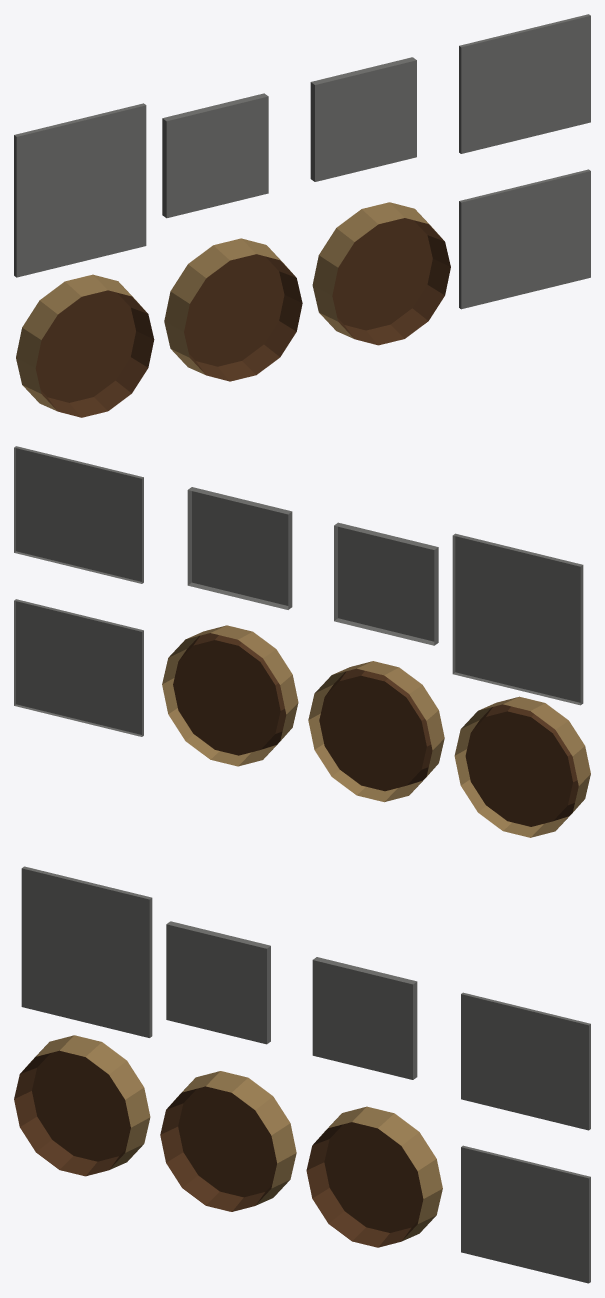
Rendered from construction_0.glb.
3 views of the same model, one above another, from view 1: azimuth 30°, elevation 25°; view 2: azimuth 150°, elevation 25°; view 3: azimuth 330°, elevation 25° (orthographic).
Visible parts, largest first — view 1: t01_g9, t10_g7, t20_g7, t00_g7, t30_g10, t31_g10, t11_g8, t21_g8; view 2: t01_g9, t10_g7, t00_g7, t20_g7, t30_g10, t31_g10, t21_g8, t11_g8; view 3: t01_g9, t10_g7, t20_g7, t00_g7, t30_g10, t31_g10, t21_g8, t11_g8.
Part boxes in pixels (<box>): t01_g9: <box>14,103,146,277</box>; t10_g7: <box>164,238,302,381</box>; t20_g7: <box>312,202,450,345</box>; t00_g7: <box>16,274,154,417</box>; t30_g10: <box>459,169,590,309</box>; t31_g10: <box>459,14,590,153</box>; t11_g8: <box>162,93,268,218</box>; t21_g8: <box>310,57,416,181</box>; t01_g9: <box>452,533,583,705</box>; t10_g7: <box>308,661,444,802</box>; t00_g7: <box>454,696,590,837</box>; t20_g7: <box>162,625,298,766</box>; t30_g10: <box>14,599,143,736</box>; t31_g10: <box>14,446,143,583</box>; t21_g8: <box>187,487,292,609</box>; t11_g8: <box>334,522,438,645</box>; t01_g9: <box>21,866,152,1037</box>; t10_g7: <box>160,1071,296,1211</box>; t20_g7: <box>306,1106,442,1247</box>; t00_g7: <box>14,1035,150,1176</box>; t30_g10: <box>461,1145,590,1283</box>; t31_g10: <box>461,992,590,1130</box>; t21_g8: <box>312,957,417,1079</box>; t11_g8: <box>166,921,270,1044</box>.
Bounding box in the file's own units: 62 × 29.63 × 3.
